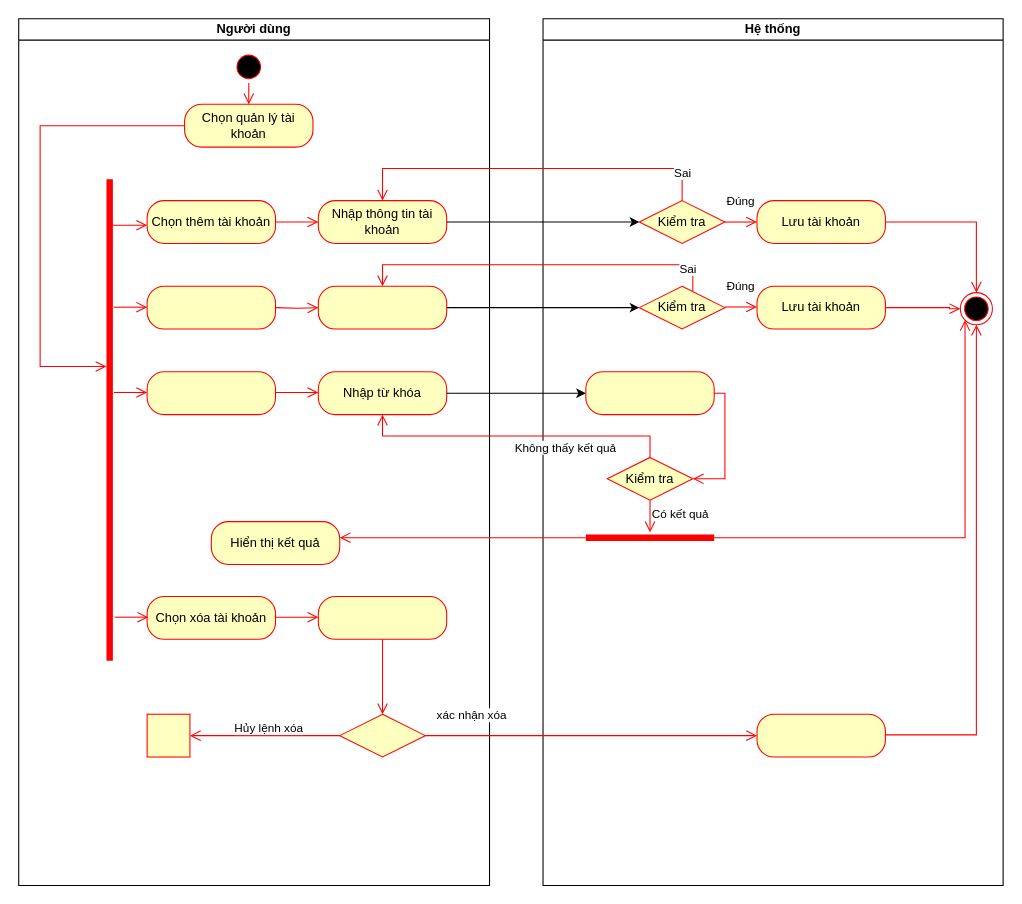
This 1022x904 diagram has some shape labels left out. The box of each missing label's shape, as (x1, y1, x2, y2) in pixels:
Chọn sửa tài khoản: (146, 285, 276, 329)
Chọn tìm kiếm tài khoản: (146, 371, 276, 415)
Cập nhật thông tin: (317, 285, 447, 329)
Tìm kiếm theo từ khóa: (585, 371, 714, 415)
Xác nhận: (339, 713, 425, 757)
Xóa tài khoản: (756, 713, 885, 757)
Yêu cầu xác nhận xóa: (317, 595, 447, 639)
